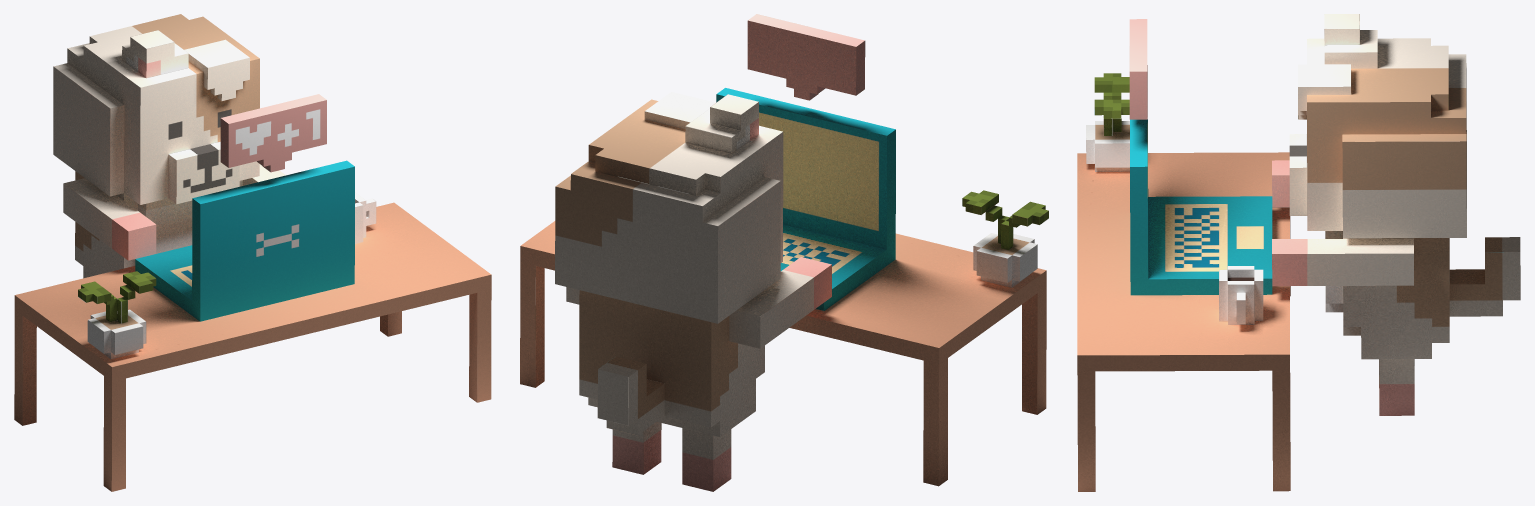
Rendered from 3d_voxel_dog.gltf.
3 renders of one model, left to right at view 1: azimuth 30°, elevation 25°; view 2: azimuth 150°, elevation 25°; view 3: azimuth 270°, elevation 25°, orthographic. The views are drawn at different scales.
Parts seen in each view (by area): view 1: main_2; view 2: main_2; view 3: main_2.
Part boxes in pixels (box(x1,y1,x2,y2)): main_2: box(14, 14, 491, 491); main_2: box(520, 14, 1048, 491); main_2: box(1077, 14, 1520, 491).
Size of what is drawn, in the model's own units: 5.6 by 4.41 by 5.
1 material, 1 textured.
